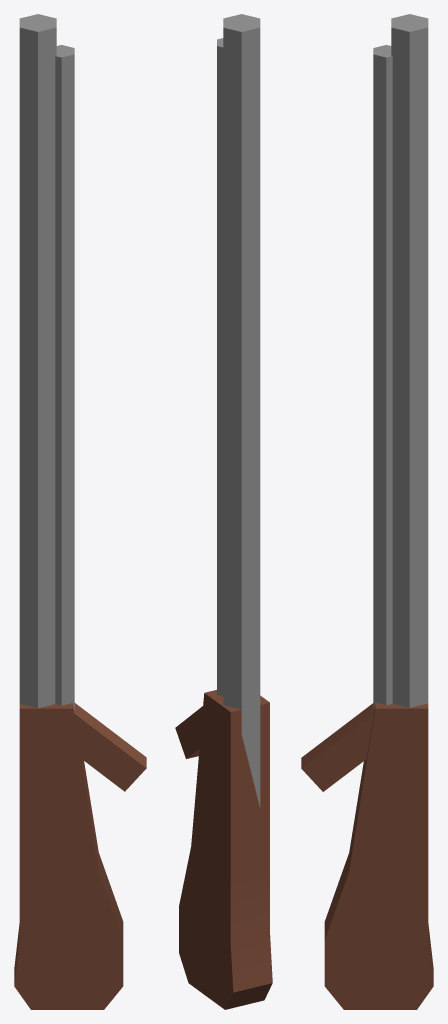
The model's file is Rifle.FBX.
The picture shows the model from 3 angles, left to right: view 1: azimuth 90°, elevation 25°; view 2: azimuth 210°, elevation 25°; view 3: azimuth 270°, elevation 25°; orthographic projection.
Visible parts, largest first — view 1: Cylinder002; view 2: Cylinder002; view 3: Cylinder002.
Part boxes in pixels (box(x1,y1,x2,y2)): Cylinder002: box(14, 14, 146, 1009); Cylinder002: box(175, 14, 272, 1009); Cylinder002: box(301, 14, 433, 1009).
Size of the model in its own units: 8.09 by 192 by 23.53.
